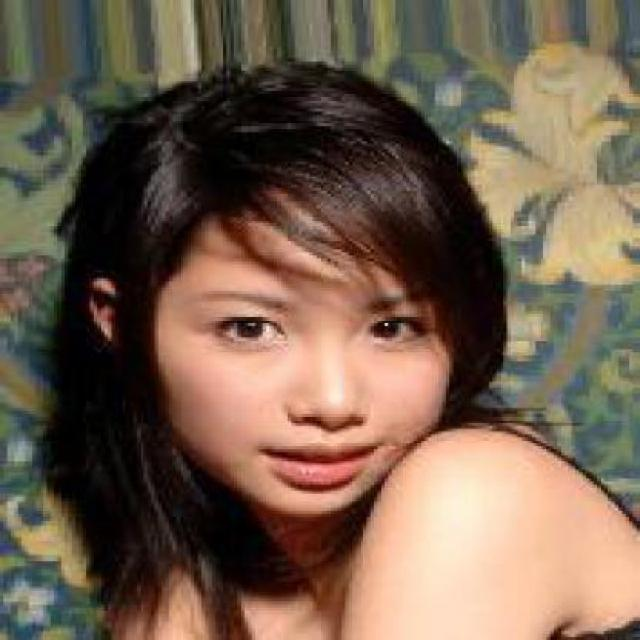closed-mouth: (267, 433, 376, 492)
